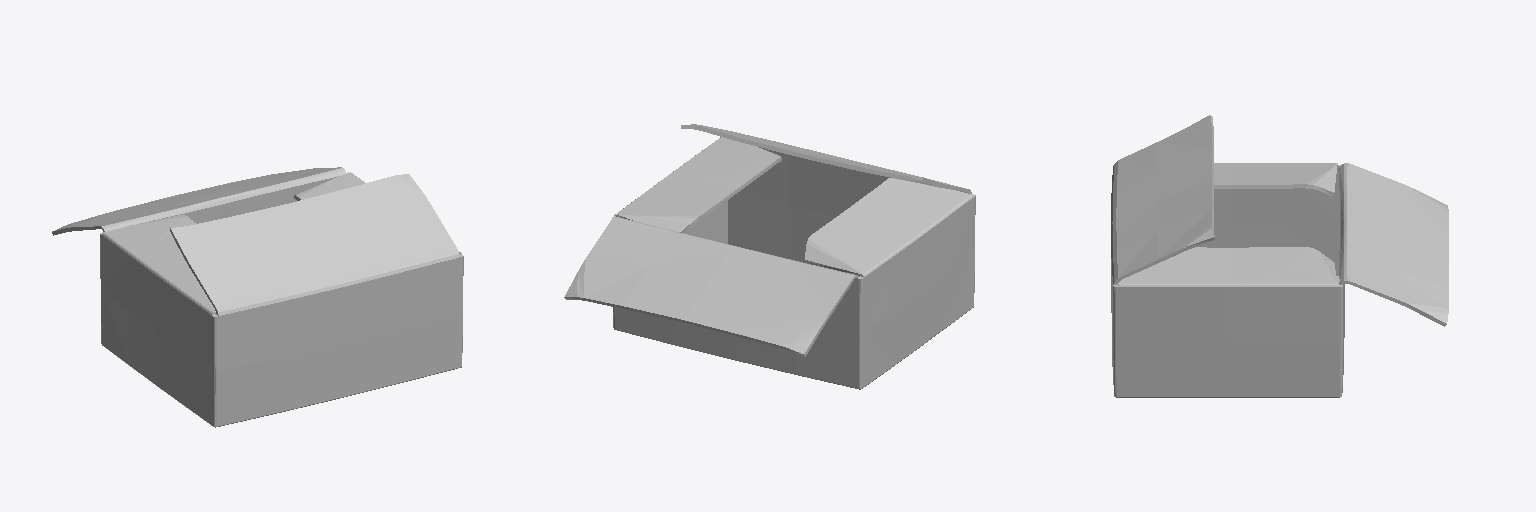
File: cajaotra.obj
The picture shows the model from 3 angles: view 1: azimuth 30°, elevation 25°; view 2: azimuth 150°, elevation 25°; view 3: azimuth 270°, elevation 25°; orthographic projection.
Parts seen in each view (by area): view 1: defaultMaterial; view 2: defaultMaterial; view 3: defaultMaterial.
Boxes of the visible parts, x1=… form: defaultMaterial: x1=52, y1=167, x2=463, y2=427; defaultMaterial: x1=564, y1=124, x2=975, y2=389; defaultMaterial: x1=1111, y1=115, x2=1448, y2=397.
Bounding box in the file's own units: 1.72 × 1.08 × 2.